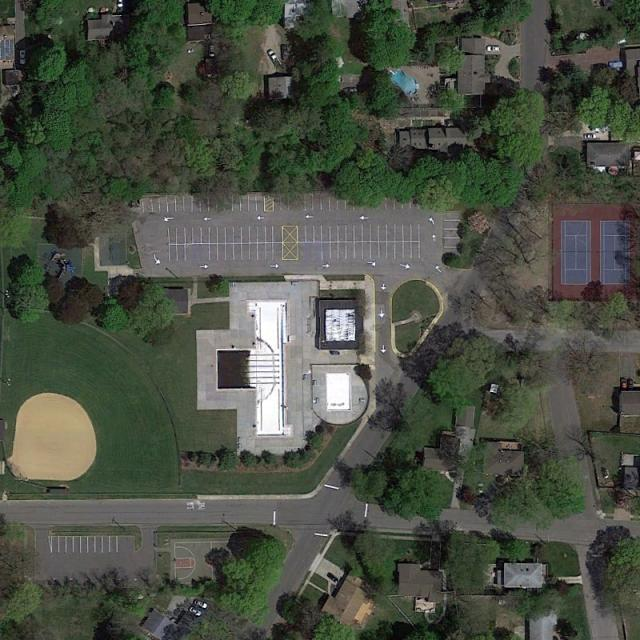vehicle: (267, 50, 282, 67), (280, 44, 288, 61), (192, 599, 207, 608), (342, 86, 358, 94), (18, 50, 26, 66), (326, 572, 338, 582), (189, 607, 202, 616), (486, 46, 502, 52), (582, 133, 596, 139), (620, 377, 627, 389), (628, 378, 634, 390)
